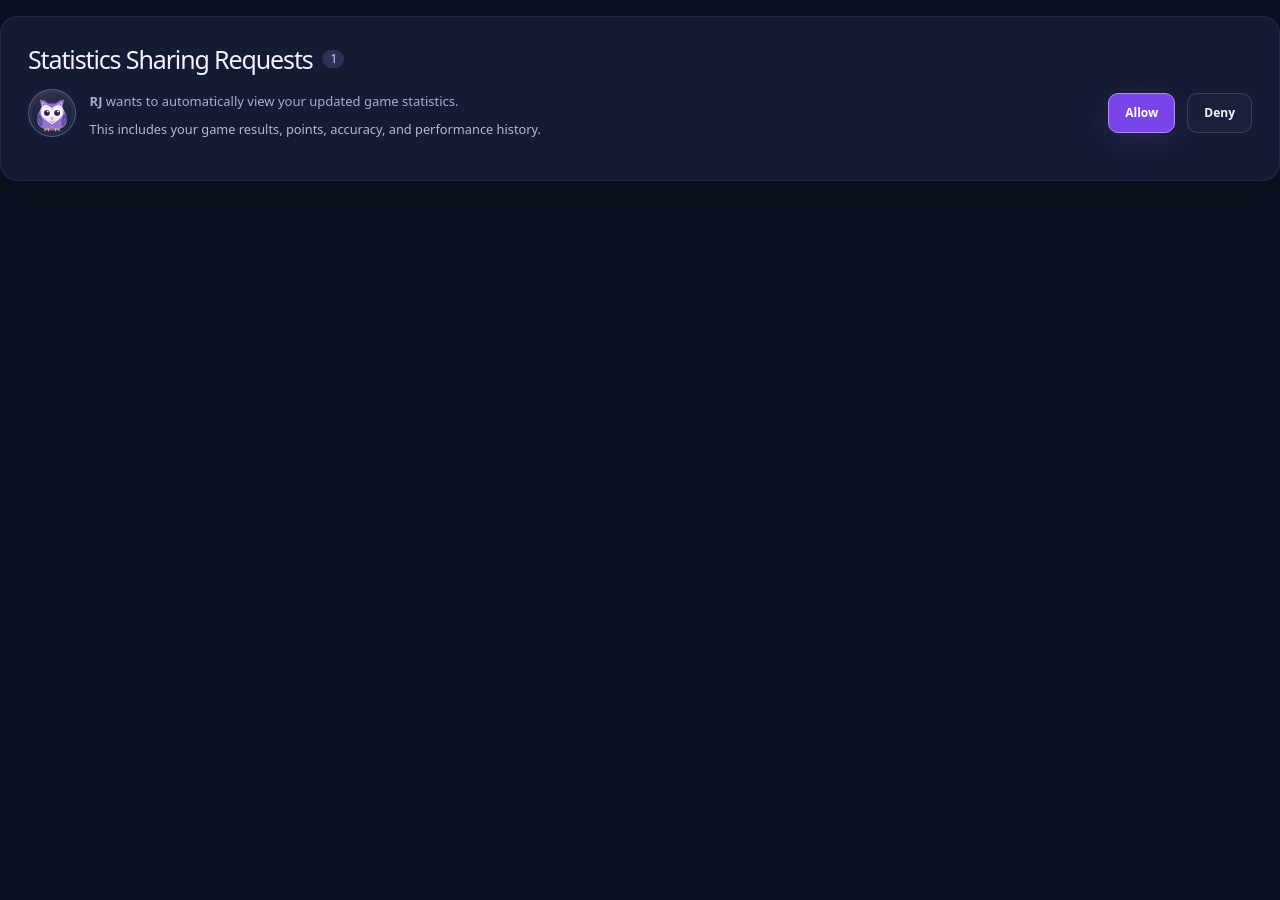
Scenario: shows a compact avatar request, allows sharing, confirms disconnect and removes the revoked connection
Later steps or results of the test are not shown.
Expected: the element "Statistics Sharing Requests" is shown, left=0, top=16, right=1279, bottom=181
Expected: the text "This includes your game results" is shown, left=90, top=120, right=541, bottom=138
Click the button with aria-label "Allow RJ": (1142, 113) left=1108, top=93, right=1175, bottom=133
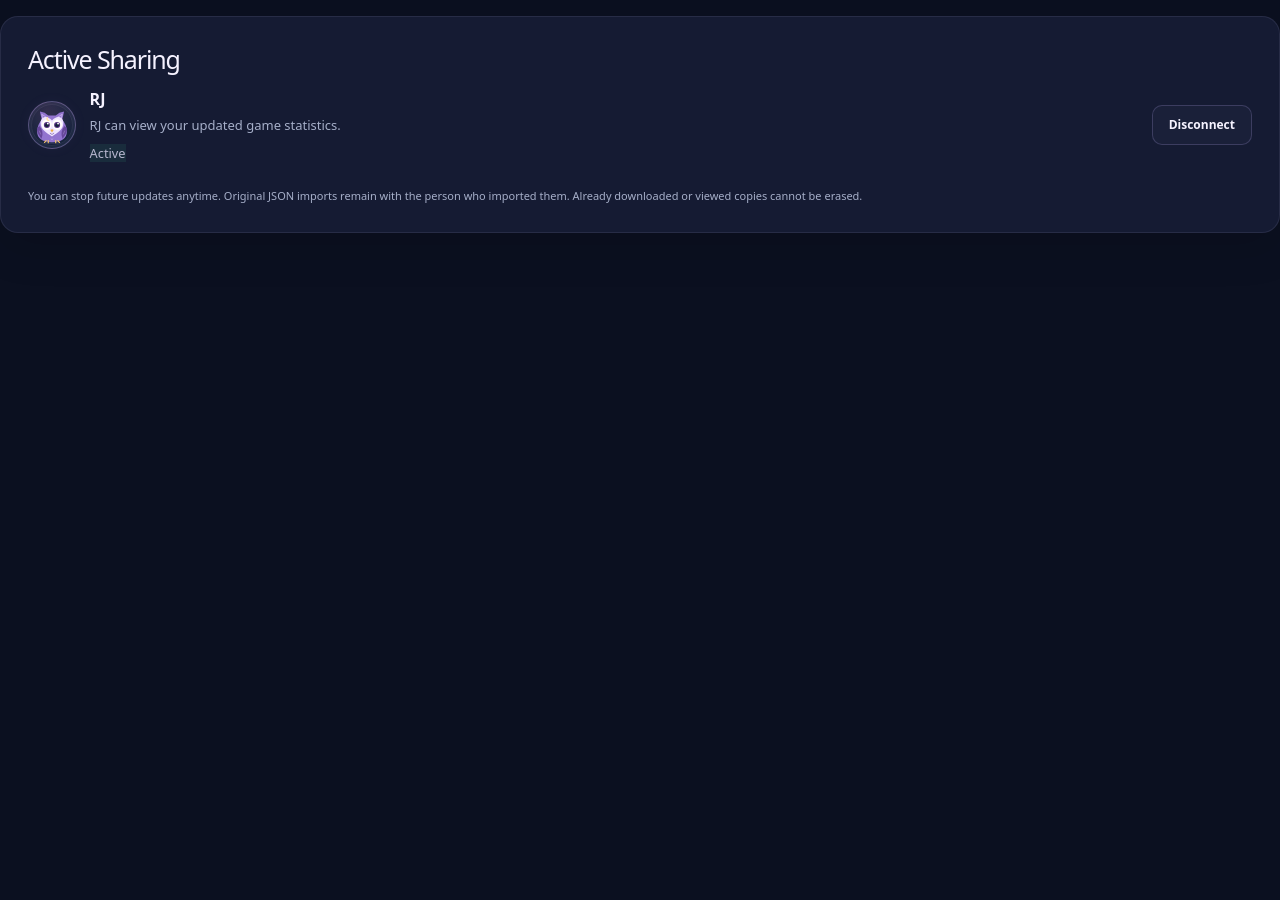
Expected: the element "Active Sharing" is shown, left=0, top=16, right=1279, bottom=233
Expected: the heading "Statistics Sharing Requests" is gone
Click the button with aria-label "Disconnect RJ": (1202, 125) left=1152, top=105, right=1252, bottom=145
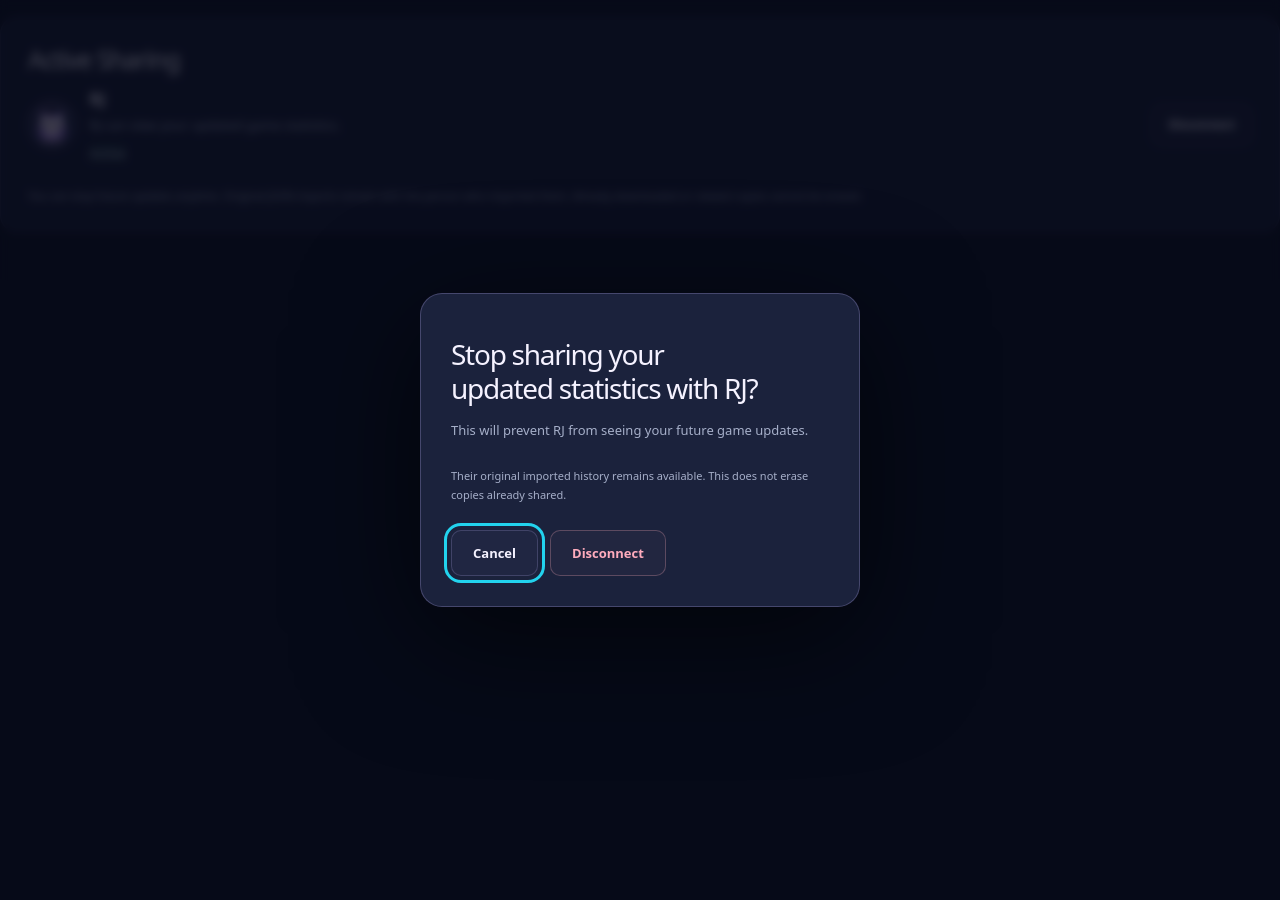
Expected: the dialog shows "Stop sharing your updated statistics with RJ?", left=420, top=293, right=860, bottom=607
